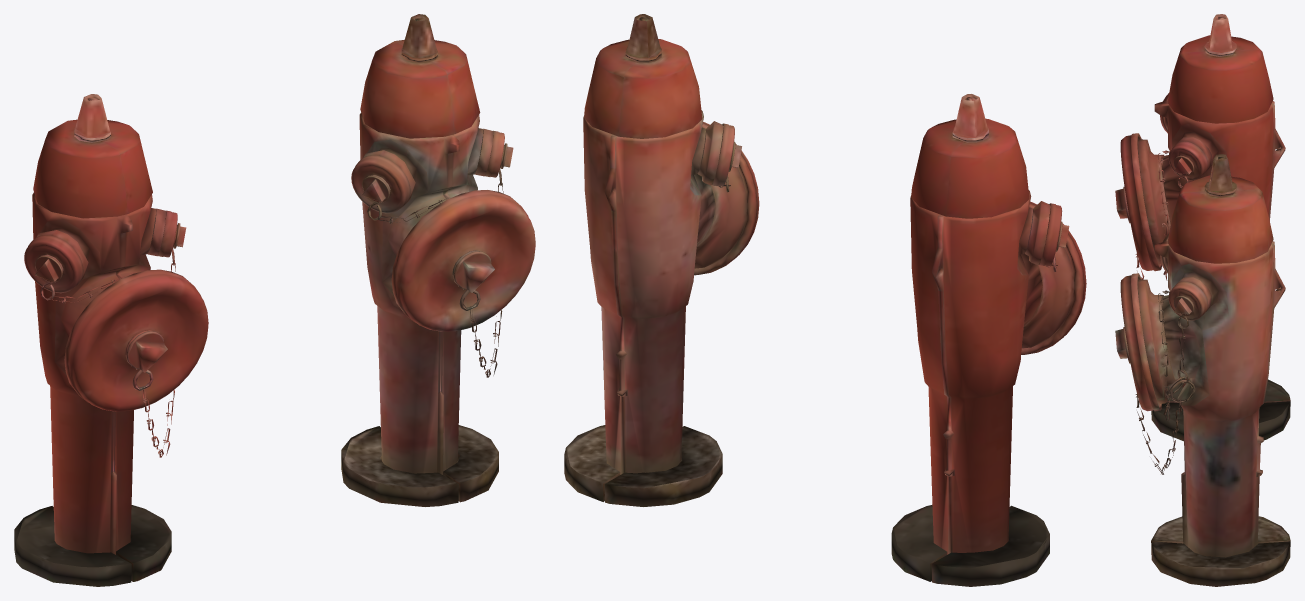
Rendered from fire_hydrant.glb.
3 views of the same model, side by side, from view 1: azimuth 30°, elevation 25°; view 2: azimuth 150°, elevation 25°; view 3: azimuth 270°, elevation 25° (orthographic). The views are drawn at different scales.
Visible parts, largest first — view 1: fire_hydrant_aged, fire_hydrant, fire_hydrant_cap_01_aged, fire_hydrant_cap_01, fire_hydrant_cap_03_aged, fire_hydrant_cap_03, fire_hydrant_chain_aged, fire_hydrant_chain, fire_hydrant_cap_02, fire_hydrant_cap_02_aged; view 2: fire_hydrant_aged, fire_hydrant, fire_hydrant_cap_01, fire_hydrant_cap_01_aged, fire_hydrant_cap_03_aged, fire_hydrant_cap_03; view 3: fire_hydrant_aged, fire_hydrant, fire_hydrant_cap_01, fire_hydrant_cap_01_aged, fire_hydrant_chain_aged, fire_hydrant_cap_02_aged, fire_hydrant_cap_02, fire_hydrant_chain.
Part boxes in pixels (x1,y1,x2,y2): fire_hydrant_aged: [341, 14, 498, 506]; fire_hydrant: [14, 94, 171, 586]; fire_hydrant_cap_01_aged: [391, 190, 535, 331]; fire_hydrant_cap_01: [64, 269, 208, 411]; fire_hydrant_cap_03_aged: [351, 155, 410, 213]; fire_hydrant_cap_03: [24, 235, 83, 293]; fire_hydrant_chain_aged: [367, 145, 504, 377]; fire_hydrant_chain: [40, 224, 177, 457]; fire_hydrant_cap_02: [157, 210, 186, 257]; fire_hydrant_cap_02_aged: [485, 130, 513, 177]; fire_hydrant_aged: [564, 14, 747, 506]; fire_hydrant: [891, 94, 1074, 586]; fire_hydrant_cap_01: [1021, 201, 1086, 354]; fire_hydrant_cap_01_aged: [694, 122, 759, 275]; fire_hydrant_cap_03_aged: [711, 123, 741, 186]; fire_hydrant_cap_03: [1038, 203, 1069, 266]; fire_hydrant_aged: [1138, 154, 1290, 586]; fire_hydrant: [1138, 14, 1290, 441]; fire_hydrant_cap_01: [1115, 133, 1161, 271]; fire_hydrant_cap_01_aged: [1115, 273, 1161, 411]; fire_hydrant_chain_aged: [1135, 290, 1195, 474]; fire_hydrant_cap_02_aged: [1168, 281, 1208, 320]; fire_hydrant_cap_02: [1168, 141, 1208, 180]; fire_hydrant_chain: [1135, 150, 1193, 280].
Size of the model in its own units: 0.8746 by 0.7992 by 0.3173.
2 materials, 2 textured.
